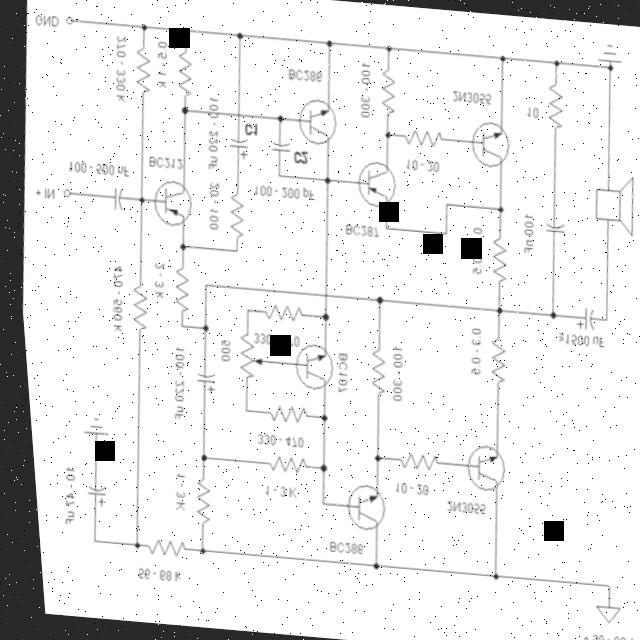capacitor: (179, 362, 216, 403), (530, 208, 568, 242), (221, 123, 259, 156), (99, 180, 131, 218), (73, 474, 105, 506), (261, 133, 294, 158), (570, 304, 595, 334)
ground: (67, 410, 109, 449), (594, 40, 623, 66)
node: (312, 169, 335, 191), (360, 447, 379, 468), (169, 235, 188, 256), (492, 50, 511, 70), (380, 38, 398, 59), (186, 540, 202, 562), (307, 459, 322, 482), (478, 568, 497, 586), (540, 302, 555, 324), (490, 199, 505, 220), (268, 110, 285, 128), (189, 447, 205, 466), (365, 294, 383, 310), (172, 102, 190, 118), (191, 320, 210, 335), (483, 304, 501, 318), (133, 190, 147, 208), (377, 130, 391, 148), (321, 37, 337, 52), (177, 26, 192, 41), (310, 409, 322, 427), (136, 20, 148, 38), (547, 56, 565, 68), (313, 311, 327, 326), (359, 560, 371, 575), (601, 63, 614, 76), (232, 30, 243, 44), (122, 539, 132, 554)
resistor: (475, 328, 513, 396), (124, 42, 164, 104), (536, 72, 572, 140), (476, 232, 517, 290), (119, 269, 150, 343), (226, 326, 263, 386), (371, 64, 408, 123), (160, 258, 195, 320), (175, 471, 208, 536), (352, 342, 387, 401), (392, 122, 448, 158), (382, 444, 436, 480), (251, 296, 304, 332), (254, 447, 308, 481), (253, 397, 312, 428), (168, 46, 200, 102), (219, 190, 249, 244), (137, 532, 183, 560)
source: (578, 597, 621, 632)
transistor: (326, 474, 391, 538), (457, 108, 518, 174), (448, 439, 508, 503), (139, 173, 202, 232), (341, 156, 401, 217), (285, 89, 345, 150), (282, 339, 336, 400)
